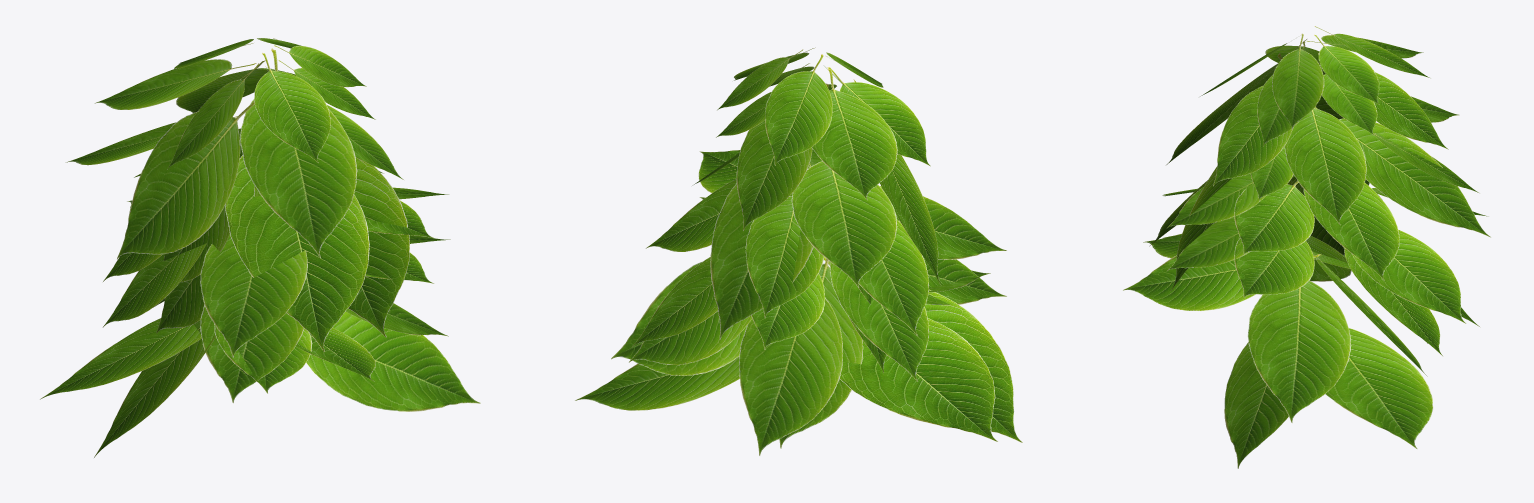
The model's file is leaves_obj_grp.fbx.
3 renders of one model, left to right at view 1: azimuth 30°, elevation 25°; view 2: azimuth 150°, elevation 25°; view 3: azimuth 270°, elevation 25°, orthographic. The views are drawn at different scales.
Parts seen in each view (by area): view 1: leaves2; view 2: leaves2; view 3: leaves2.
Part boxes in pixels (left/top/right/bottom): leaves2: left=40, top=38, right=480, bottom=457; leaves2: left=575, top=47, right=1022, bottom=455; leaves2: left=1123, top=26, right=1491, bottom=468.
Size of the model in its own units: 71.43 by 59.95 by 59.52.
1 material, 1 textured.
